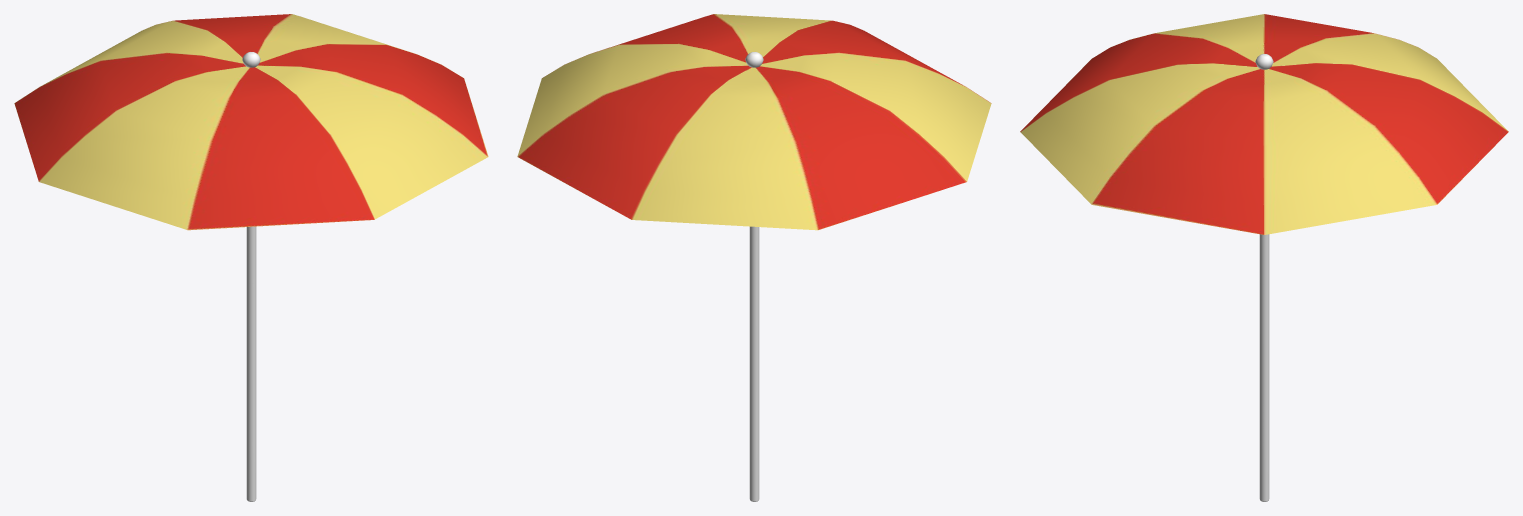
File: sombrilla.fbx
The picture shows the model from 3 angles, left to right: view 1: azimuth 30°, elevation 25°; view 2: azimuth 150°, elevation 25°; view 3: azimuth 270°, elevation 25°; orthographic projection.
Parts seen in each view (by area): view 1: polySurface2, polySurface3; view 2: polySurface2, polySurface3; view 3: polySurface2, polySurface3.
Part boxes in pixels (<box>): polySurface2: <box>14,14,488,230</box>; polySurface3: <box>242,52,260,501</box>; polySurface2: <box>517,14,991,230</box>; polySurface3: <box>745,52,763,501</box>; polySurface2: <box>1020,14,1508,234</box>; polySurface3: <box>1255,54,1273,501</box>.
Bounding box in the file's own units: 13.53 × 13.6 × 13.53.
